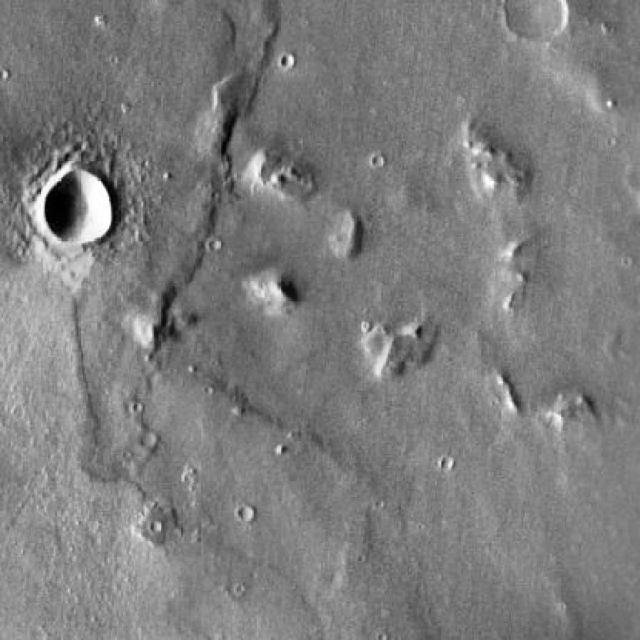crater: (42, 174, 113, 246), (509, 0, 577, 48)
